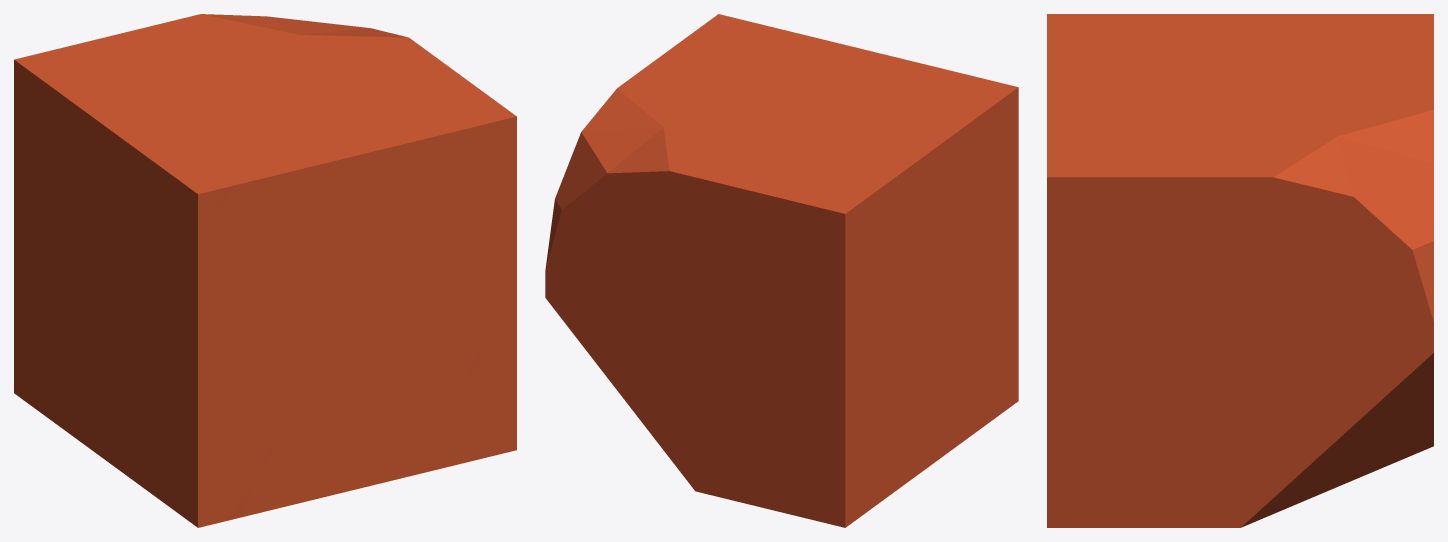
File: EdgeCorner2.fbx
3 renders of one model, left to right at view 1: azimuth 30°, elevation 25°; view 2: azimuth 150°, elevation 25°; view 3: azimuth 270°, elevation 25°, orthographic. The views are drawn at different scales.
Parts seen in each view (by area): view 1: EdgeCorner2; view 2: EdgeCorner2; view 3: EdgeCorner2.
Part boxes in pixels (x1,y1,x2,y2): EdgeCorner2: (14, 14, 516, 527); EdgeCorner2: (545, 14, 1018, 527); EdgeCorner2: (1047, 14, 1433, 527).
Size of the model in its own units: 100 by 100 by 100.
